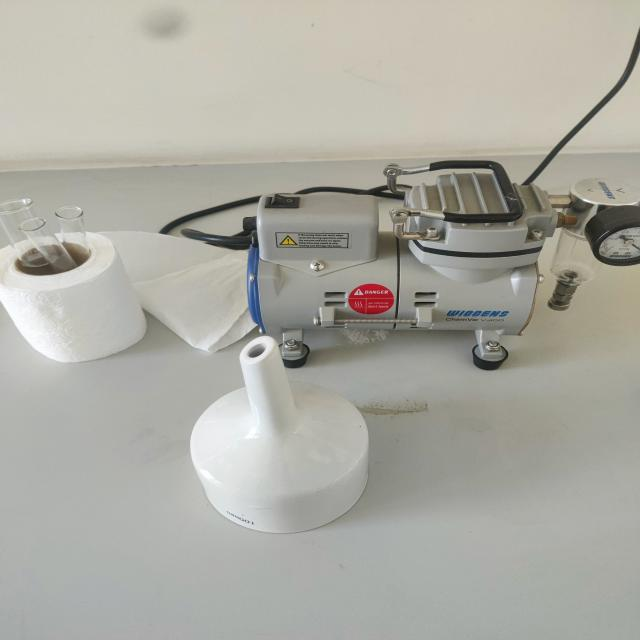Buchner_Funnel: (184, 300, 391, 548)
